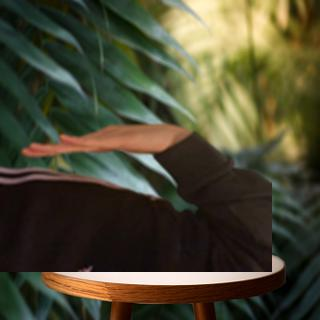Wait: (17, 117, 190, 159)
